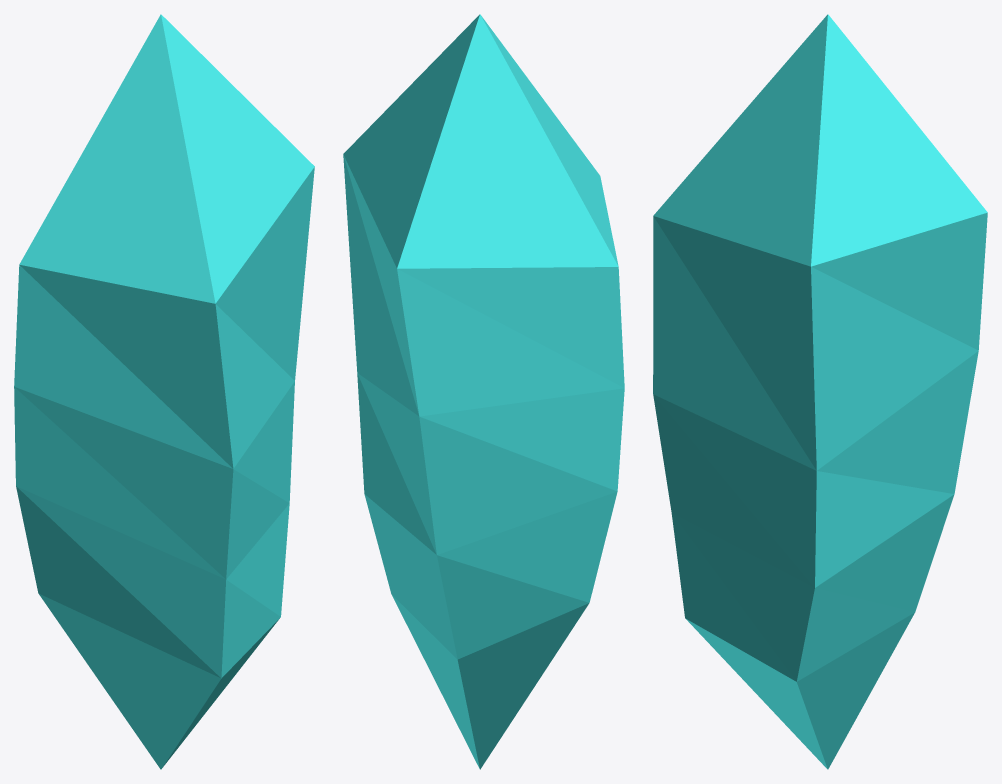
Rendered from fragment.obj.
The picture shows the model from 3 angles, left to right: view 1: azimuth 30°, elevation 25°; view 2: azimuth 150°, elevation 25°; view 3: azimuth 270°, elevation 25°; orthographic projection.
Size of the model in its own units: 0.403 by 1 by 0.4012.
